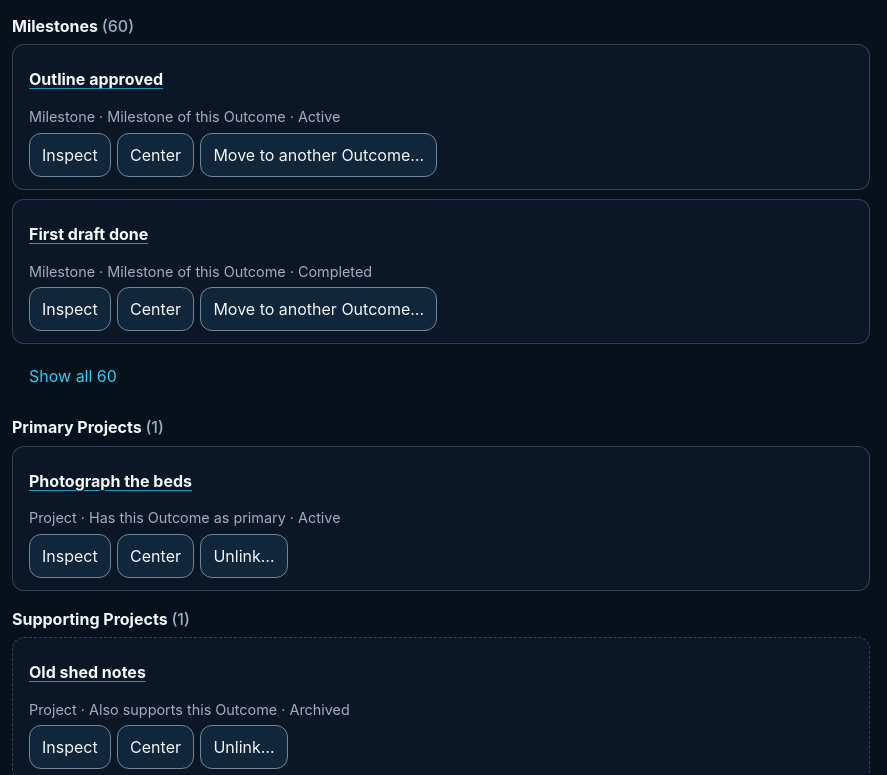
Test: Alignment page: the relationship list › loads every link of a truncated group with Show all
(page scrolled)
Click the button named "Show all 60 Milestones" at (73, 376), box [12,352,134,399]
(page scrolled)
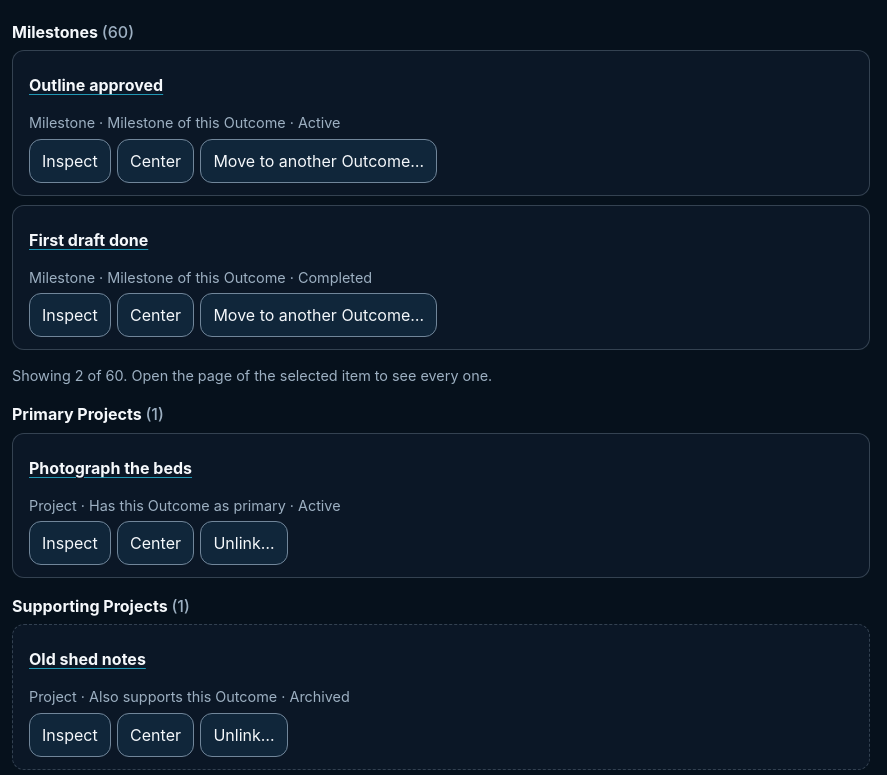
Result: the text "Showing 2 of 60." is shown at [12,367,492,384]
Result: the button "Show all" is gone
